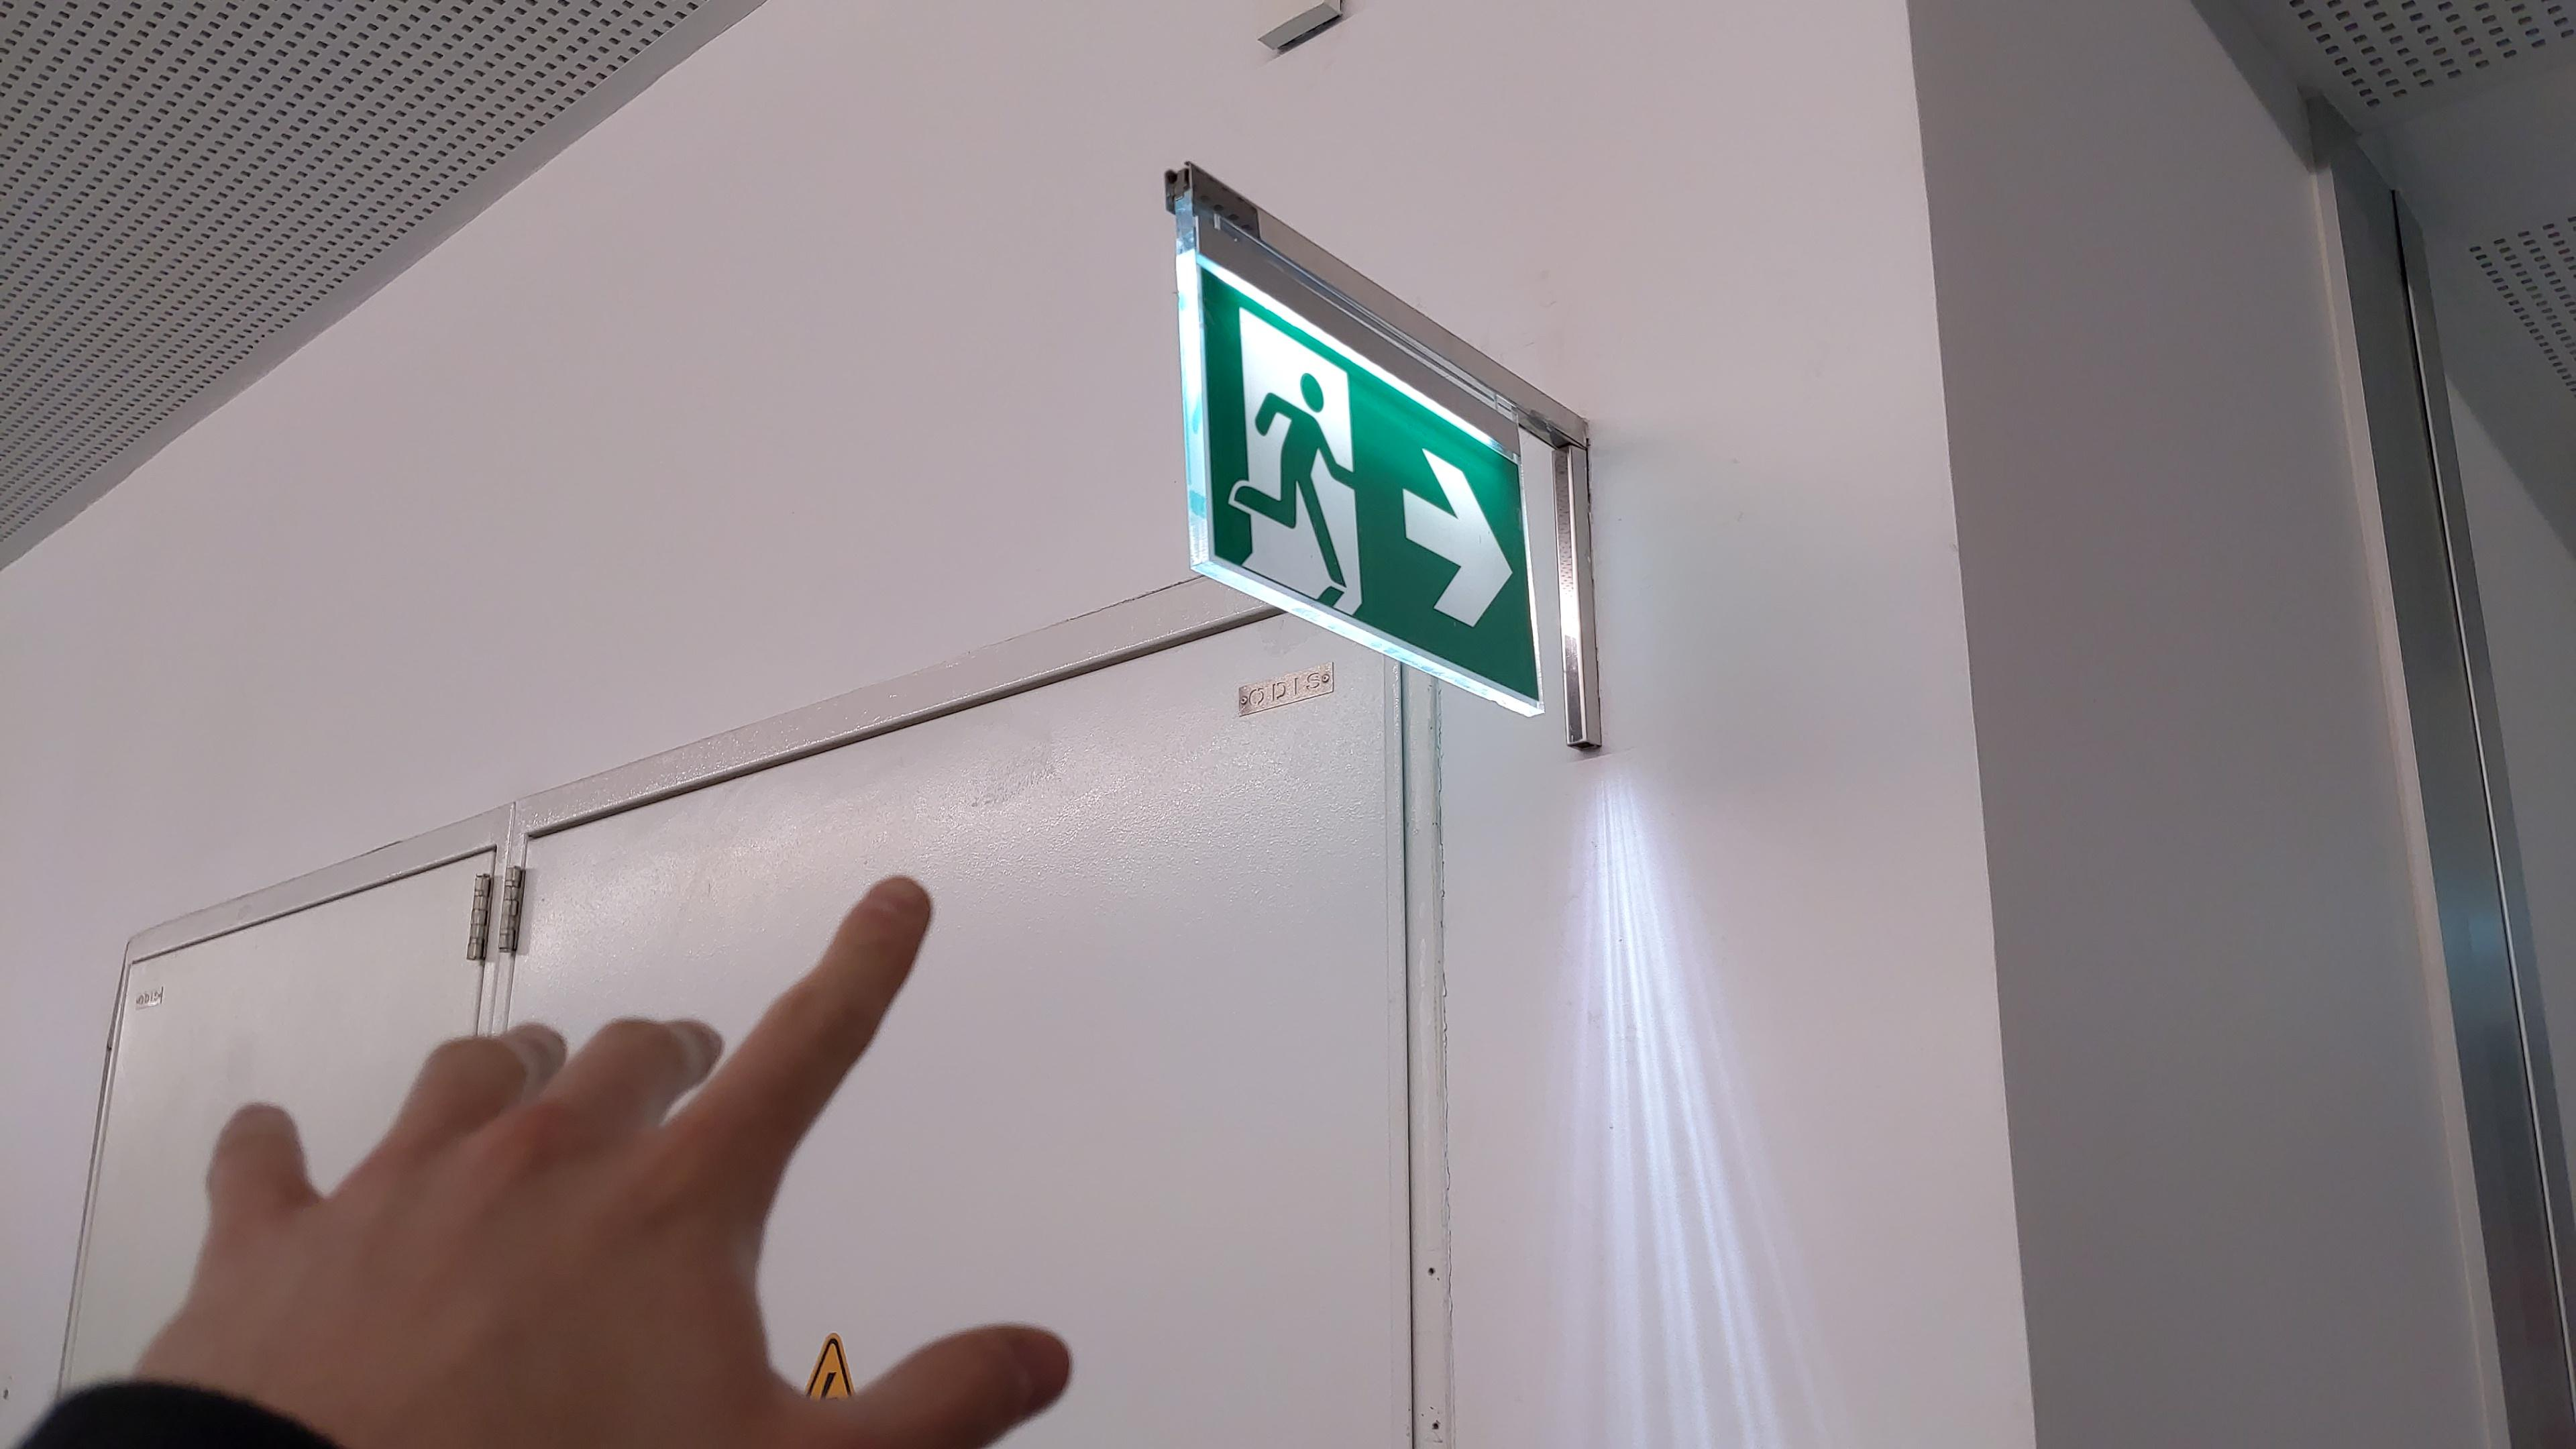danger-electricity: (793, 1329, 863, 1405)
emergency exit: (1223, 301, 1373, 630)
emergency right arrow: (1394, 441, 1518, 632)
